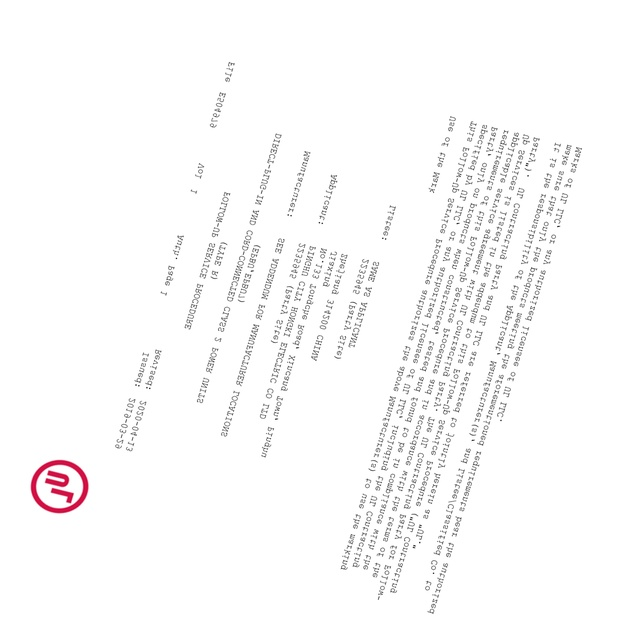ul: (29, 458, 89, 513)
